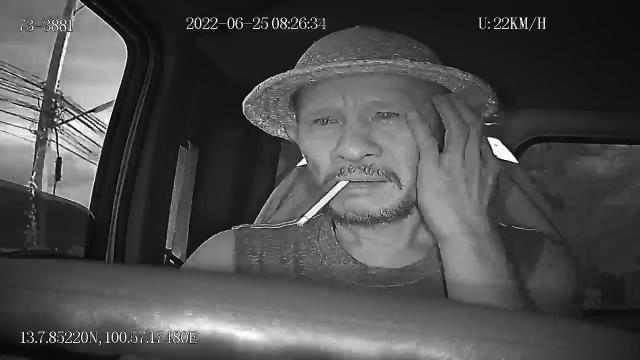SafeDriving: (364, 99, 412, 129), (306, 107, 346, 130)
Smoking: (298, 178, 352, 226)
